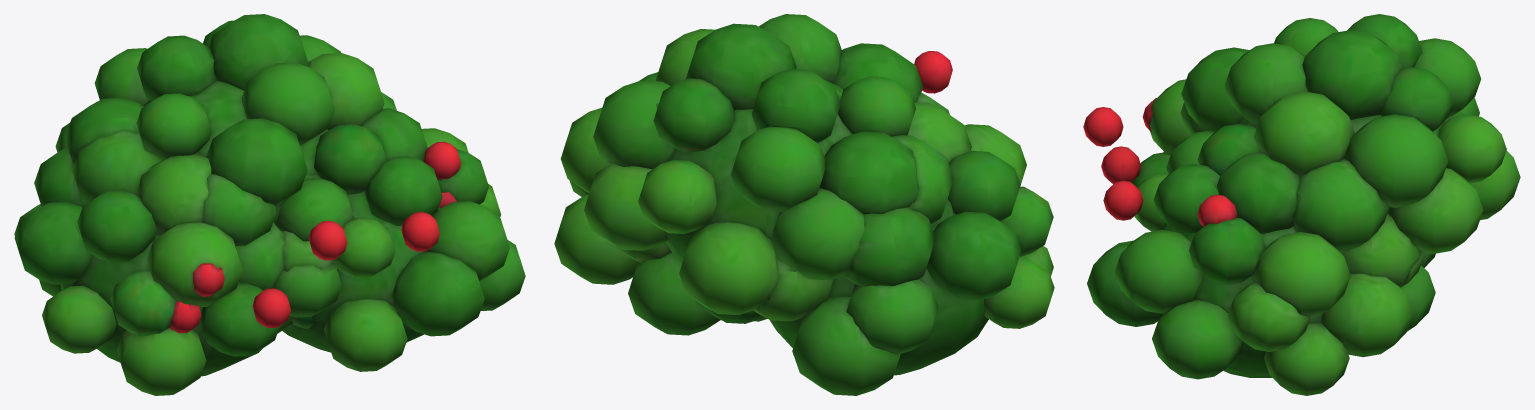
The model's file is bush_obs0.glb.
The picture shows the model from 3 angles, left to right: view 1: azimuth 30°, elevation 25°; view 2: azimuth 150°, elevation 25°; view 3: azimuth 270°, elevation 25°; orthographic projection. The views are drawn at different scales.
Parts seen in each view (by area): view 1: bush_obs0; view 2: bush_obs0; view 3: bush_obs0.
Part boxes in pixels (box(x1,y1,x2,y2)): bush_obs0: box(14, 14, 525, 395); bush_obs0: box(554, 14, 1054, 395); bush_obs0: box(1083, 14, 1520, 395).
Size of the model in its own units: 0.7732 by 0.5013 by 0.6527.
Materials: 1 (1 with a texture image).
